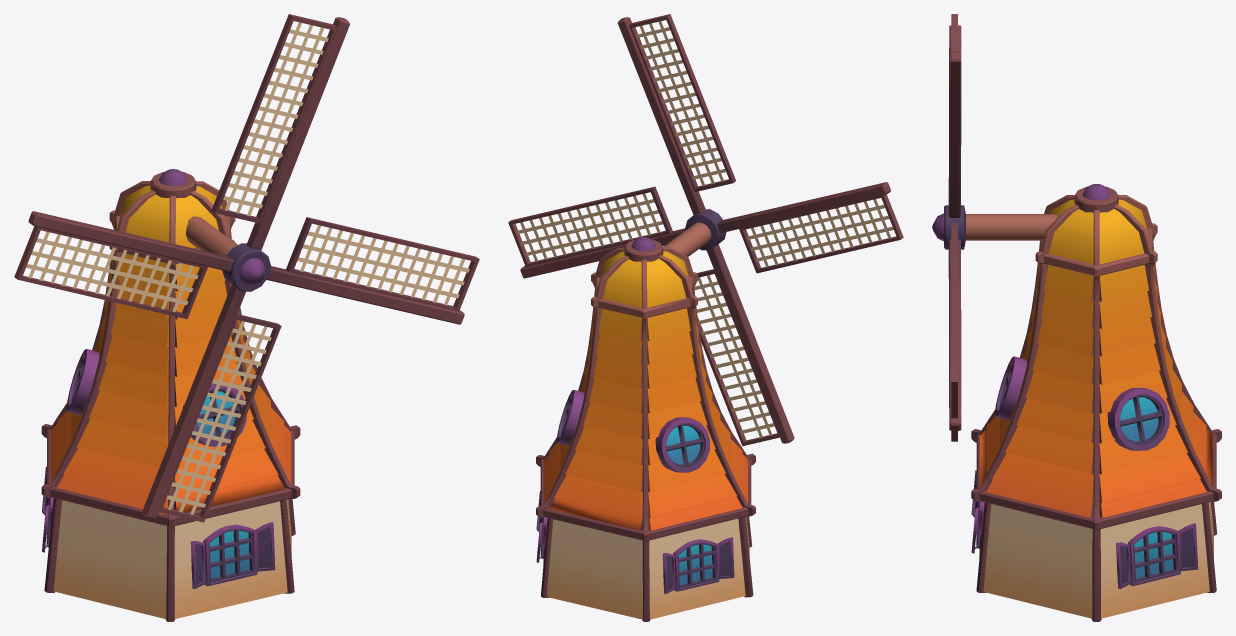
File: village_windmill.gltf
The picture shows the model from 3 angles, left to right: view 1: azimuth 30°, elevation 25°; view 2: azimuth 150°, elevation 25°; view 3: azimuth 270°, elevation 25°; orthographic projection. The views are drawn at different scales.
Visible parts, largest first — view 1: Windmill_Material.005_0 (×42); view 2: Windmill_Material.005_0 (×50); view 3: Windmill_Material.005_0 (×50).
Part boxes in pixels (x1=…): Windmill_Material.005_0 (×42): x1=18, y1=14, x2=479, y2=618; Windmill_Material.005_0 (×50): x1=516, y1=14, x2=893, y2=619; Windmill_Material.005_0 (×50): x1=946, y1=61, x2=1221, y2=621.
Size of the model in its own units: 5.39 by 6.59 by 3.02.
Materials: 1 (1 with a texture image).
